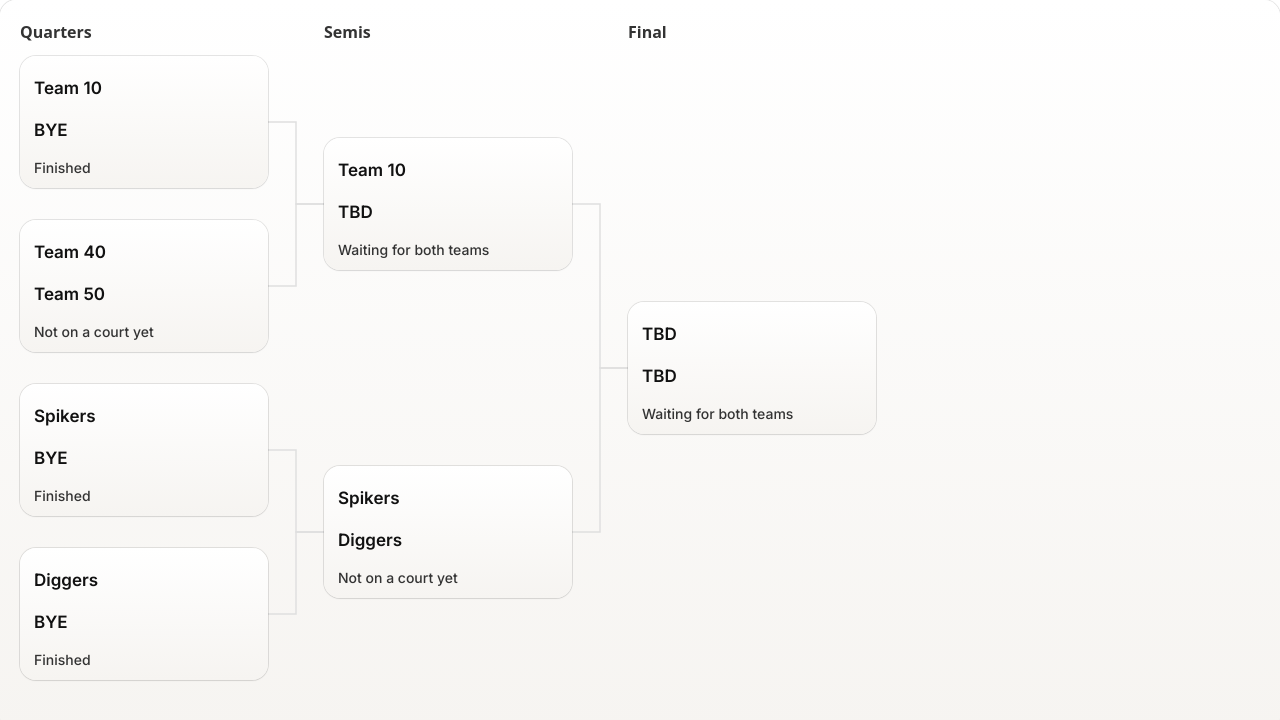
Escape closes the match
Click the button with aria-label "Semis · match 2: Spikers vs Diggers" at (448, 519), box [328,470,568,568]
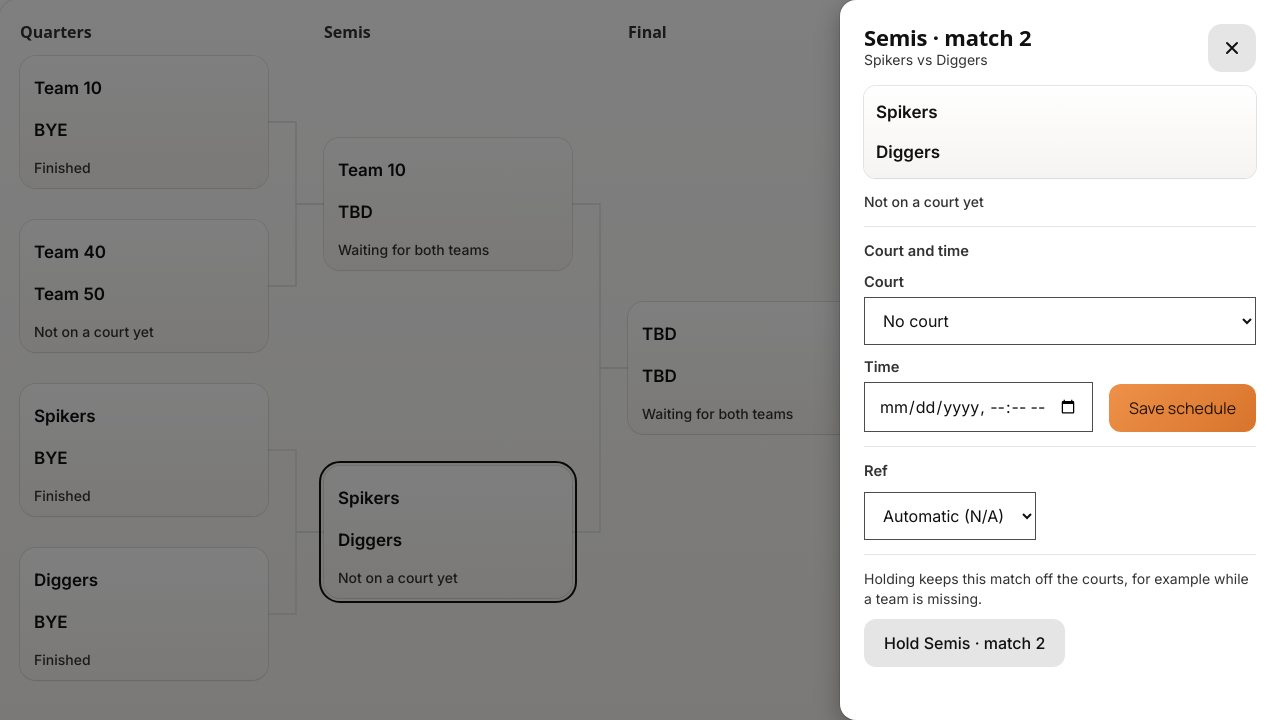
Press Escape
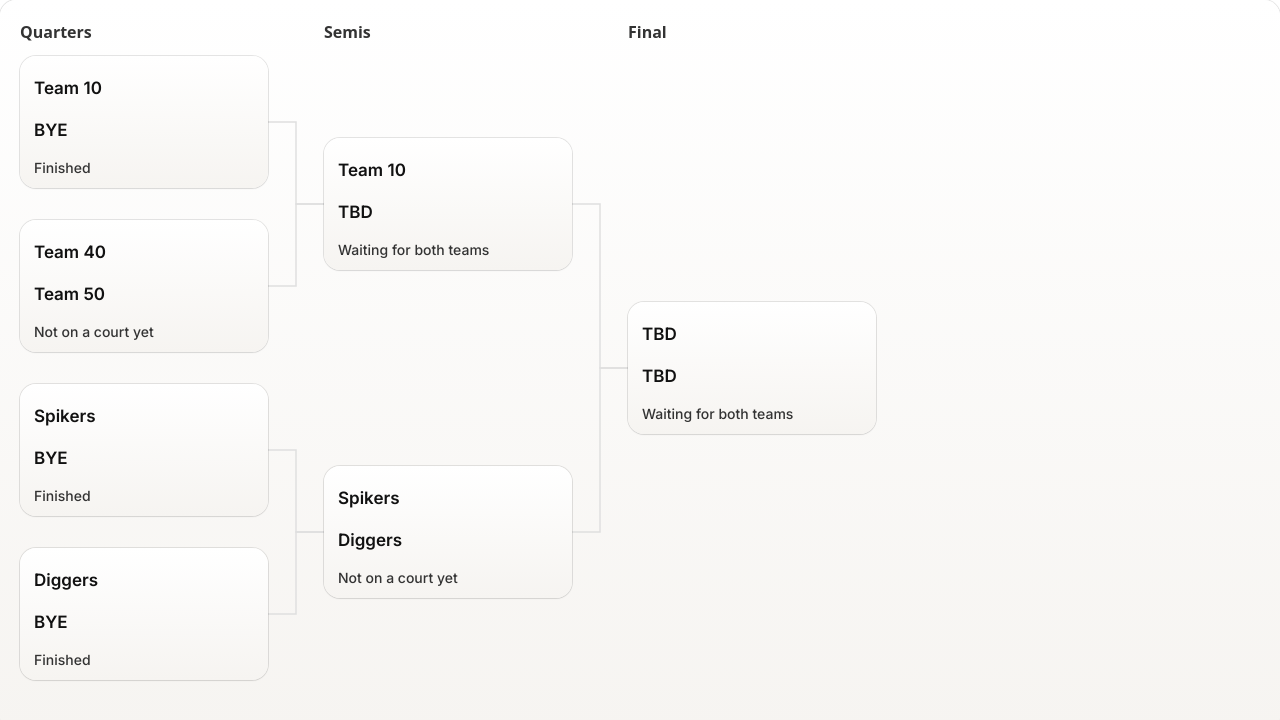
Check: the dialog is gone
